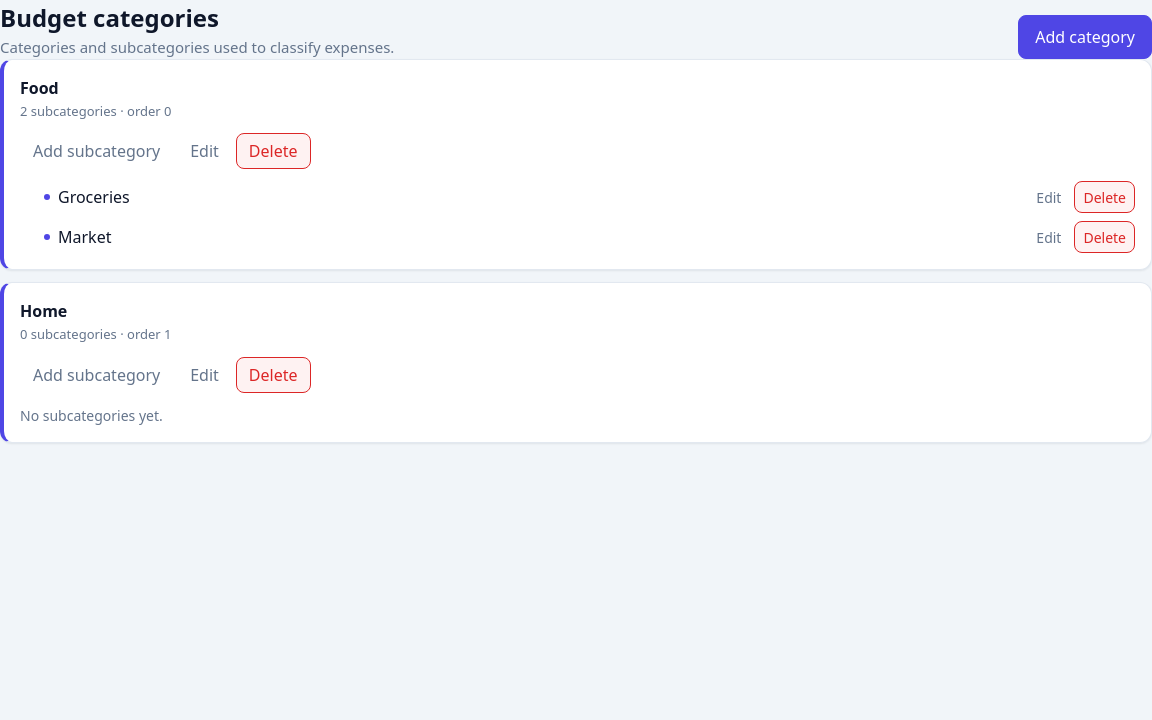
Test: BudgetCategoriesSettingsPage › adds a subcategory in the context of its category
The width and height of the screenshot is (1152, 720).
Click the button "Add subcategory" below "2 subcategories · order 0": (97, 151) left=20, top=133, right=173, bottom=169
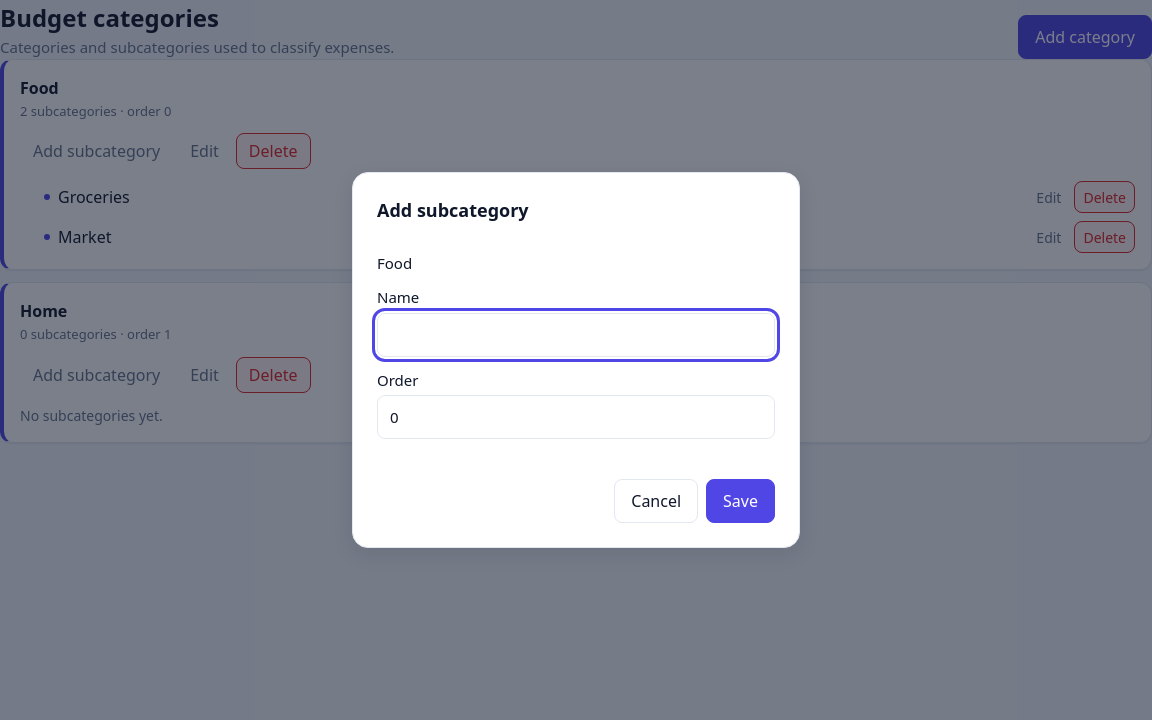
Check: the text "Food" is shown, box left=377, top=253, right=412, bottom=273
